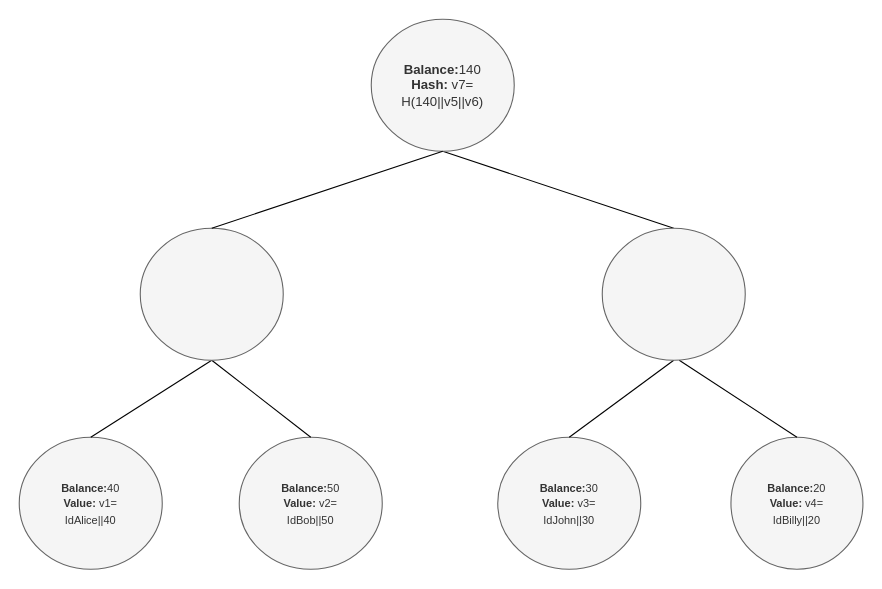
Image size: 882x589. Some labels were removed from this diagram. Here are the shapes that lost their labels. From the top down, the box of each, then its label:
(139, 227, 283, 360): Balance: 90 Hash: v5= H(90||v1||v2)
(601, 227, 745, 360): Balance: 50 Hash: v6= H(50||v3||v4)
